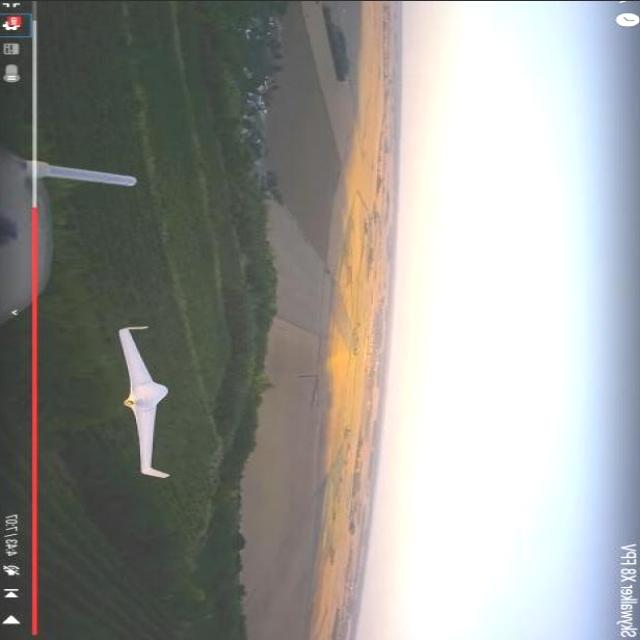plane: (116, 323, 172, 478)
